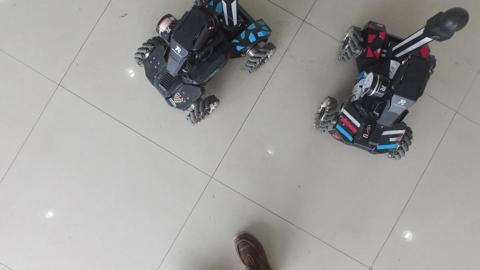chariot: (309, 5, 471, 169), (135, 1, 284, 130)
